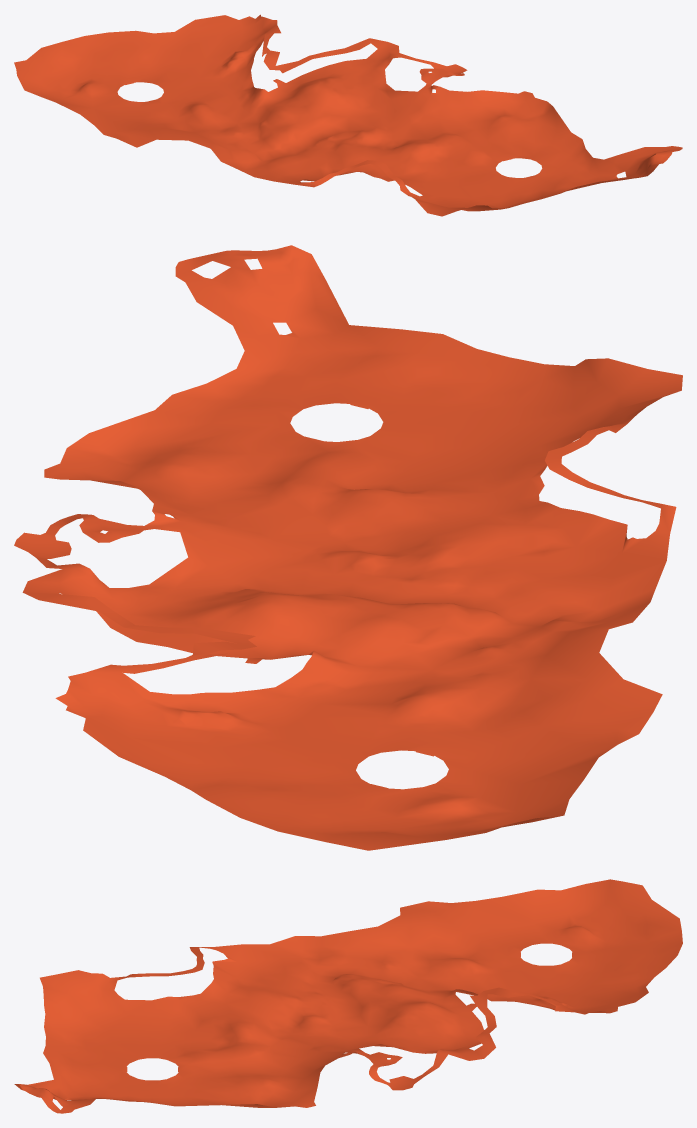
File: cluster_22.fbx
The picture shows the model from 3 angles, top to bottom: view 1: azimuth 30°, elevation 25°; view 2: azimuth 150°, elevation 25°; view 3: azimuth 270°, elevation 25°; orthographic projection. The views are drawn at different scales.
Visible parts, largest first — view 1: cluster_22; view 2: cluster_22; view 3: cluster_22.
Part boxes in pixels (box(x1,y1,x2,y2)): cluster_22: box(14, 14, 682, 216); cluster_22: box(14, 245, 682, 850); cluster_22: box(14, 879, 682, 1113).
Size of the model in its own units: 1150501 by 74962 by 1366209.
